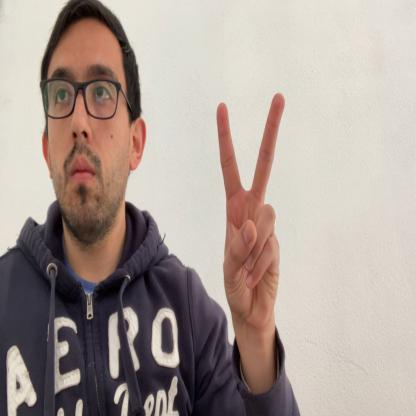V: (215, 92, 287, 323)
